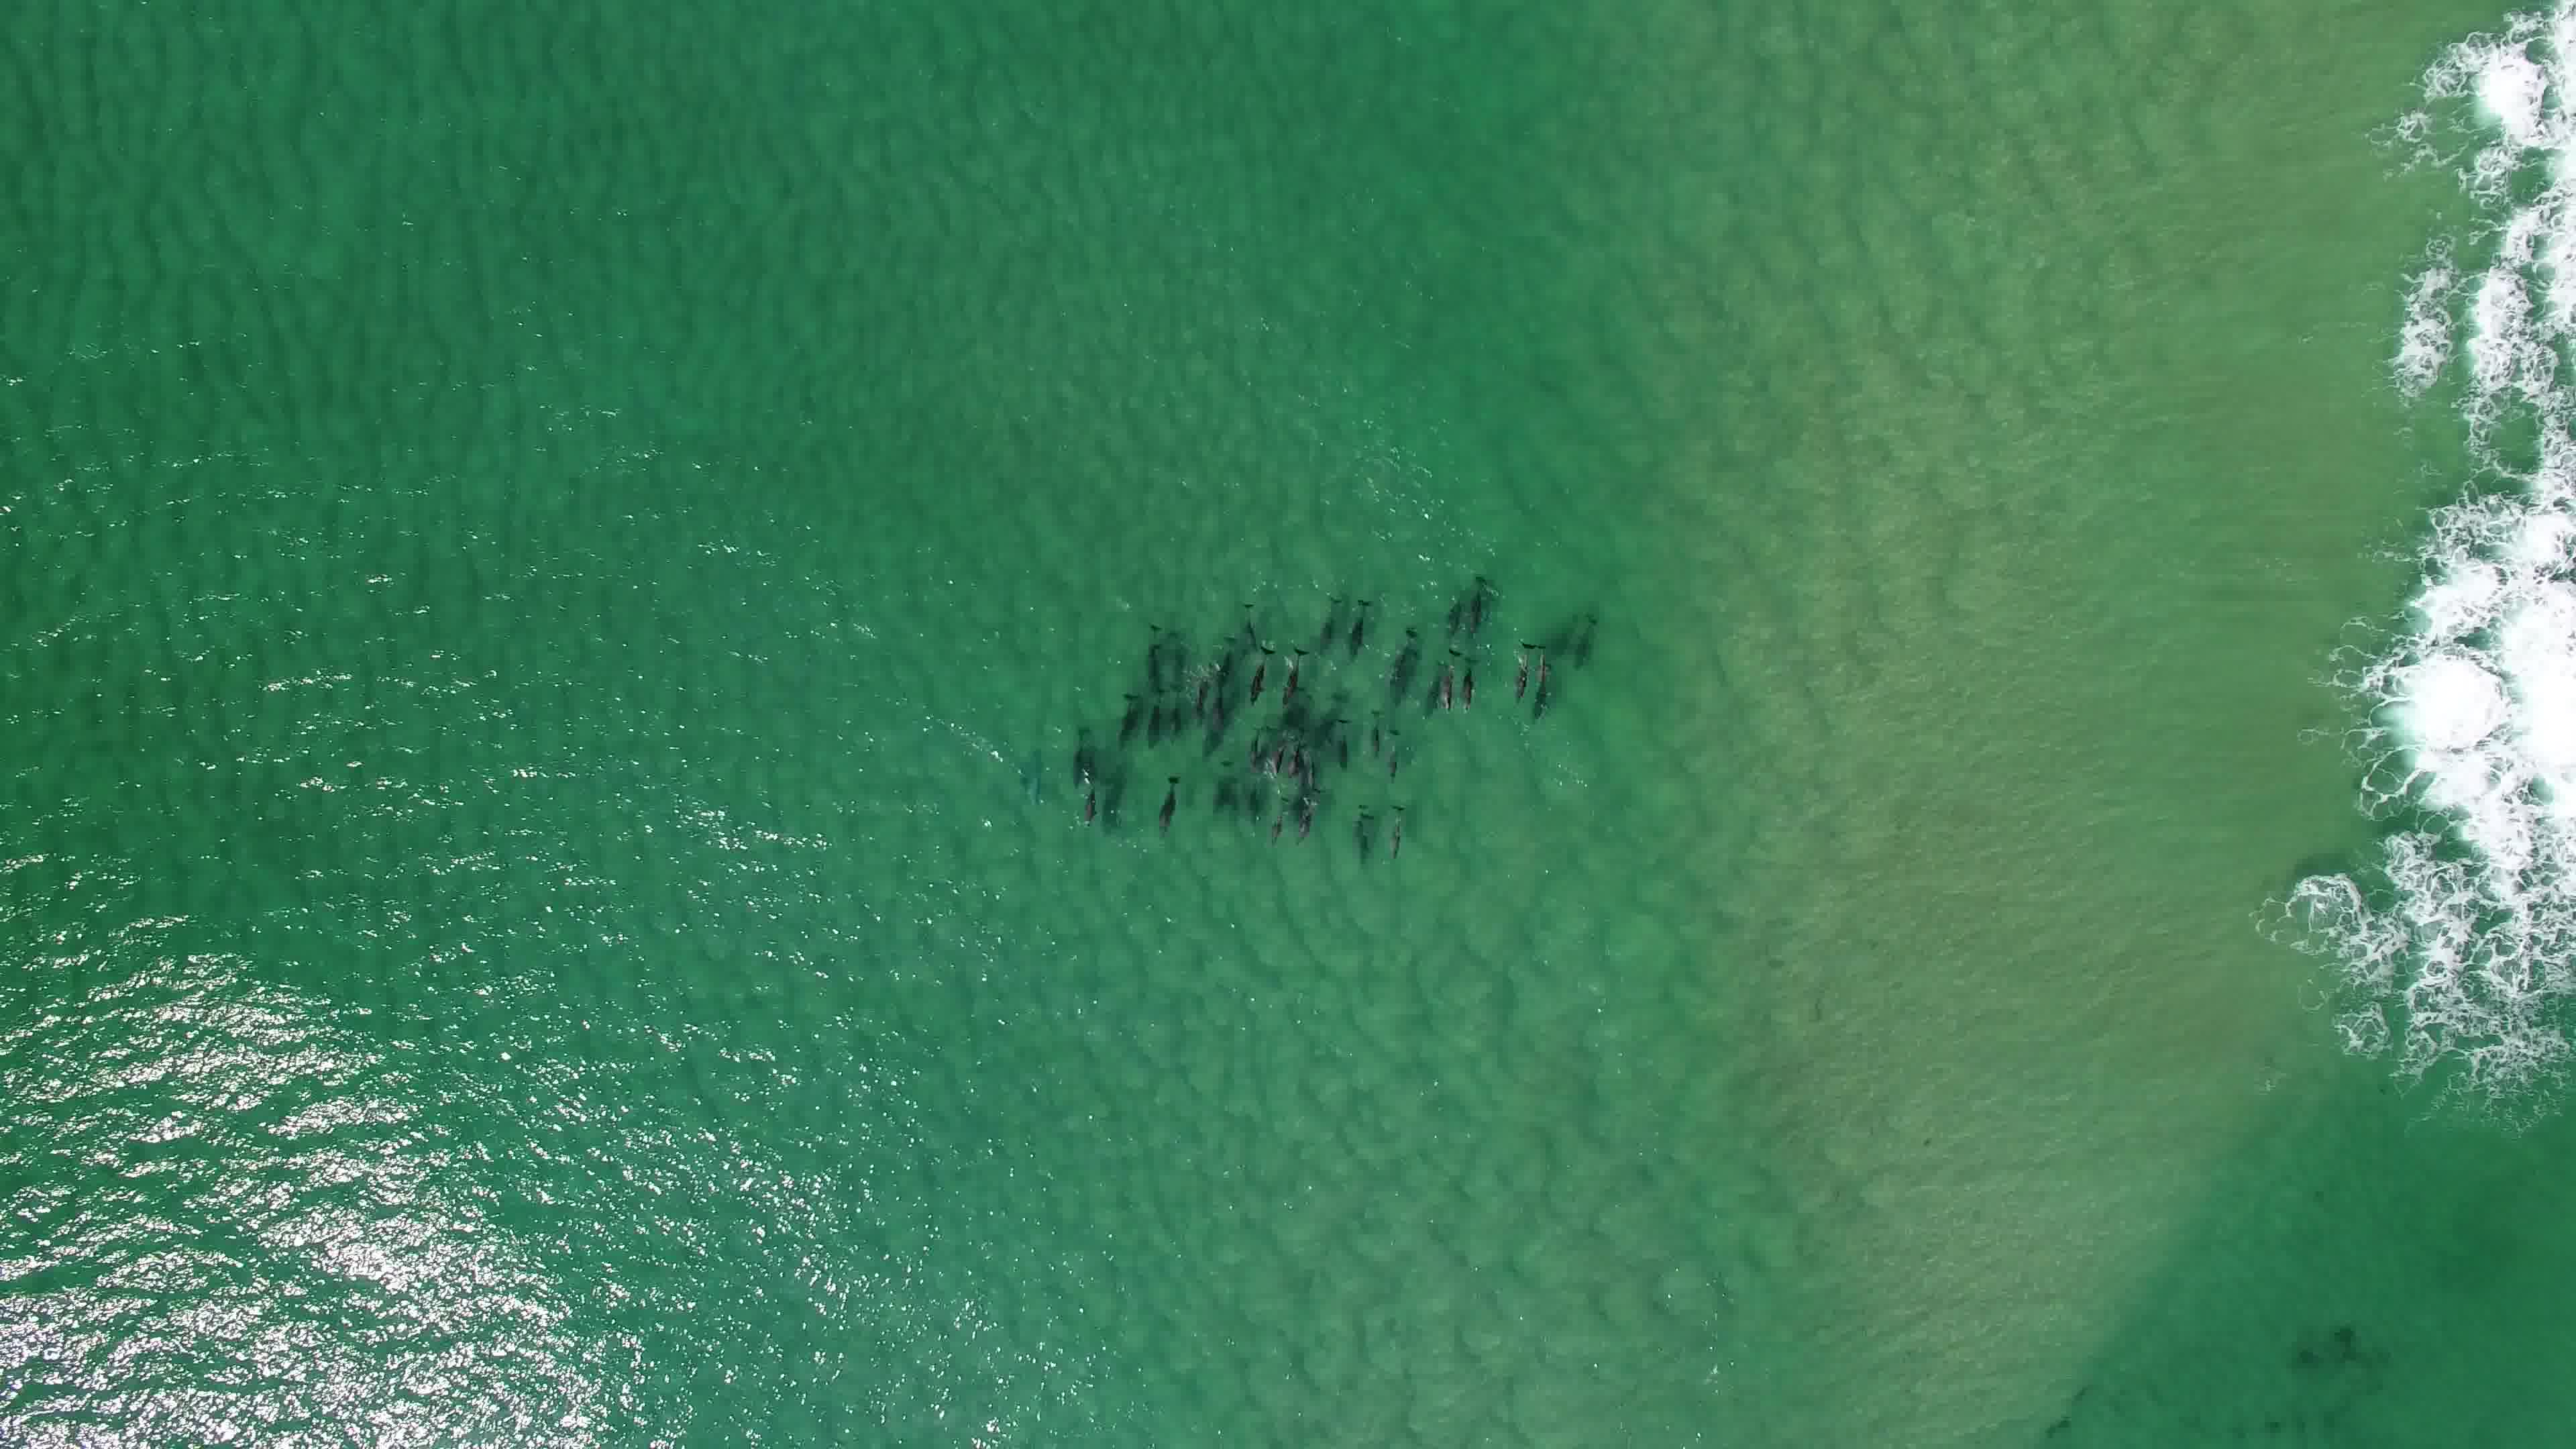dolphin: (1143, 770, 1191, 842), (1233, 637, 1283, 706), (1380, 617, 1415, 704), (1525, 630, 1559, 718), (1341, 796, 1375, 874), (1453, 640, 1484, 722), (1074, 771, 1115, 835), (1311, 580, 1343, 658), (1504, 633, 1537, 706), (1279, 639, 1313, 711), (1382, 713, 1414, 789), (1343, 582, 1369, 669), (1431, 640, 1461, 715), (1111, 681, 1141, 754), (1382, 803, 1412, 872), (1138, 685, 1169, 748), (1323, 709, 1355, 771), (1060, 718, 1092, 780), (1205, 674, 1233, 743), (1258, 798, 1295, 849), (1361, 699, 1389, 757), (1185, 665, 1214, 718), (1283, 729, 1306, 782), (1244, 724, 1265, 770), (1263, 732, 1284, 775)
